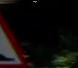Speed Breaker ahead: (0, 8, 28, 66)
